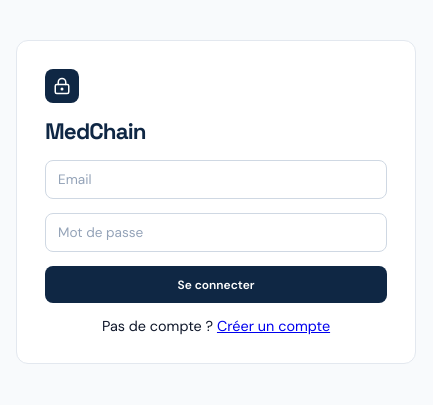
Test: shows error when login fails
Type "a@b.com" into the field labelled "Email" at [216, 180], box [45,160,387,199]
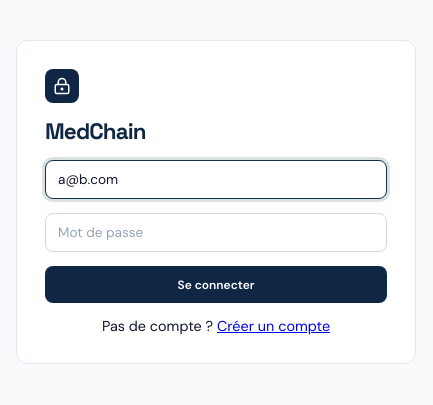
Type "wrong" into the password field labelled "Mot de passe" at [216, 232], box [45,213,387,252]
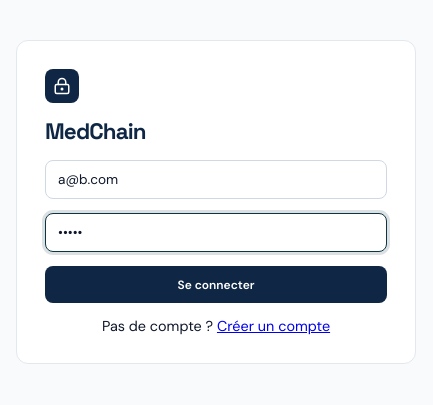
Click the button "Se connecter" at [216, 284], box [45,266,387,303]
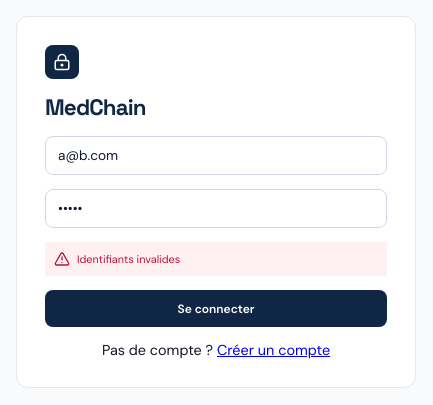
Expected: the text "Identifiants invalides" is shown, [45,242,387,276]
